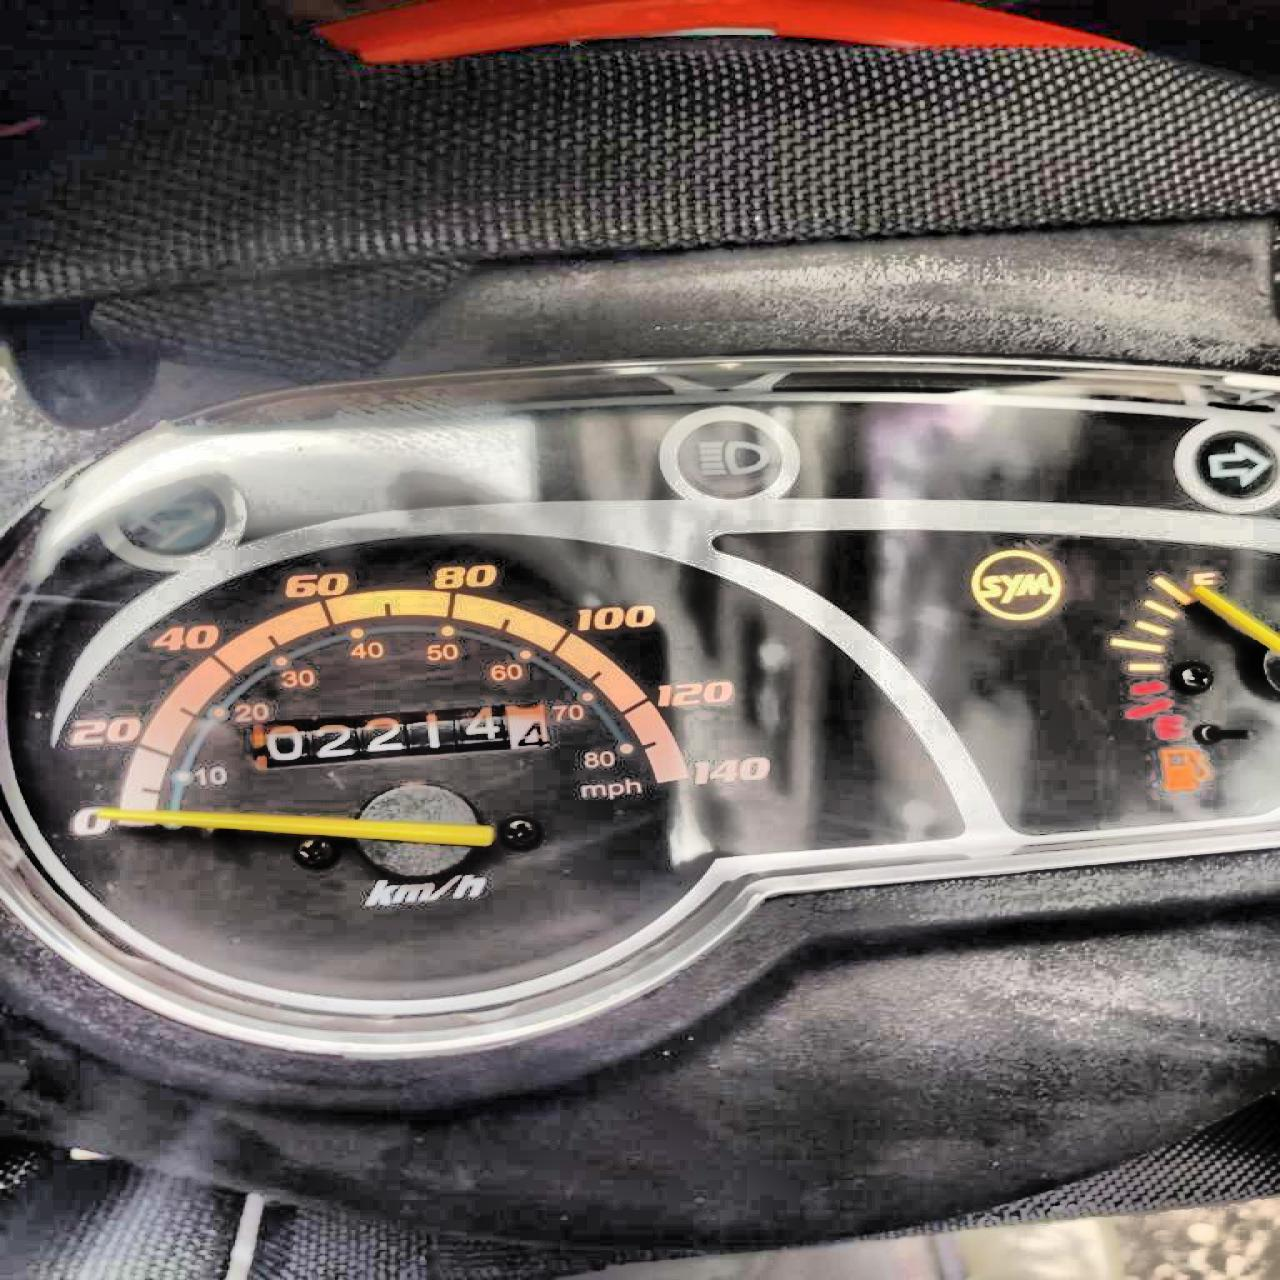0: (261, 726, 305, 763), (250, 701, 270, 720)
1: (415, 708, 443, 756)
2: (360, 713, 403, 758), (312, 719, 355, 761)
4: (462, 704, 497, 744), (510, 719, 546, 753)
odometer: (245, 701, 553, 770)
